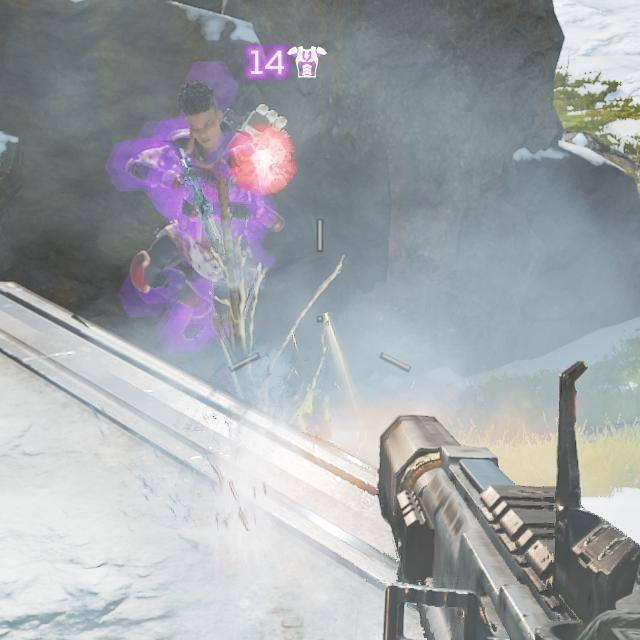avatar: (127, 82, 293, 408)
object: (229, 123, 297, 195)
